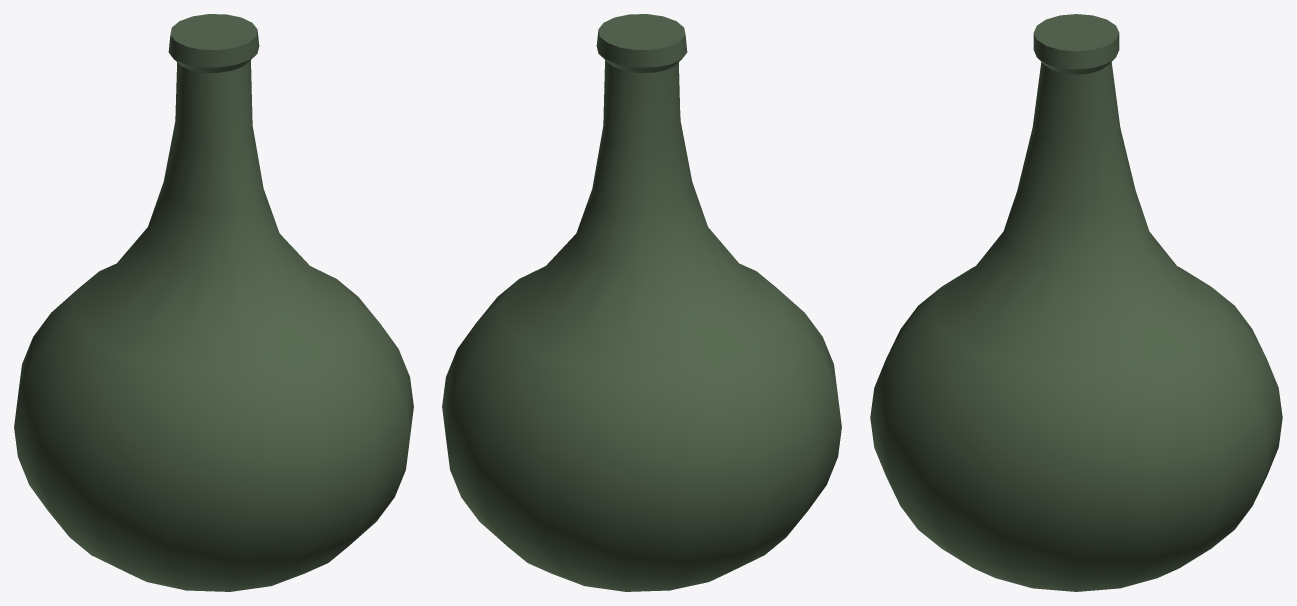
Rendered from BotellaVino.fbx.
3 renders of one model, left to right at view 1: azimuth 30°, elevation 25°; view 2: azimuth 150°, elevation 25°; view 3: azimuth 270°, elevation 25°, orthographic.
Visible parts, largest first — view 1: Botella; view 2: Botella; view 3: Botella.
Boxes of the visible parts, x1,y1,x2,y2 form: Botella: [14, 14, 413, 591]; Botella: [442, 14, 841, 591]; Botella: [870, 14, 1282, 591].
Size of the model in its own units: 291 by 421 by 299.
